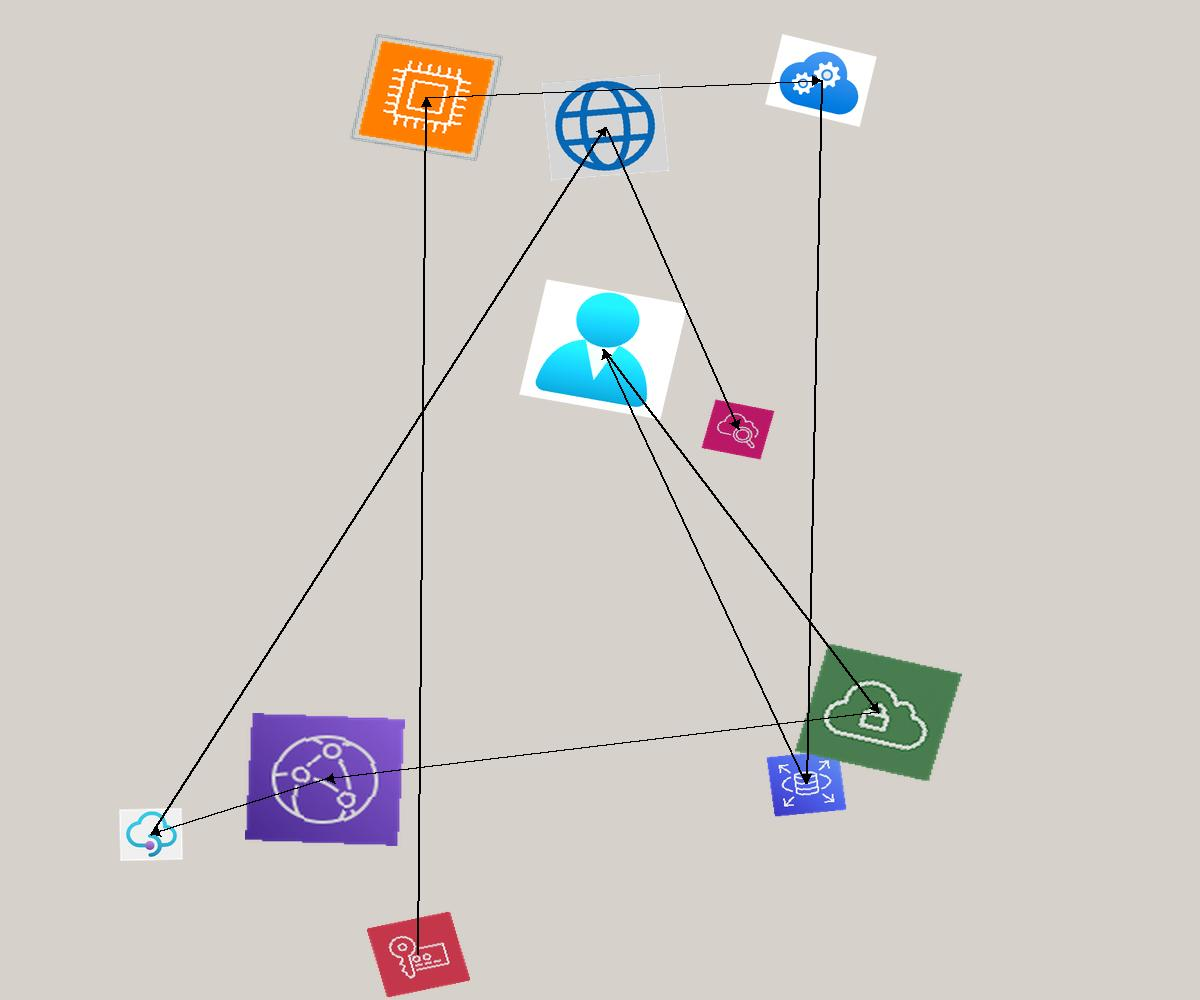AWS-Category_Compute: (349, 33, 504, 162)
AWS-CloudFront: (245, 713, 405, 846)
AWS-CloudWatch: (701, 399, 775, 460)
AWS-Key-Management-Service: (366, 911, 471, 998)
AWS-Private_vpc: (795, 643, 962, 782)
AWS-RDS: (766, 750, 847, 817)
Azure_api_gateway: (119, 808, 183, 861)
Azure_cloud_services: (765, 34, 877, 127)
Azure_http: (541, 73, 670, 181)
Azure_users: (519, 279, 688, 420)
